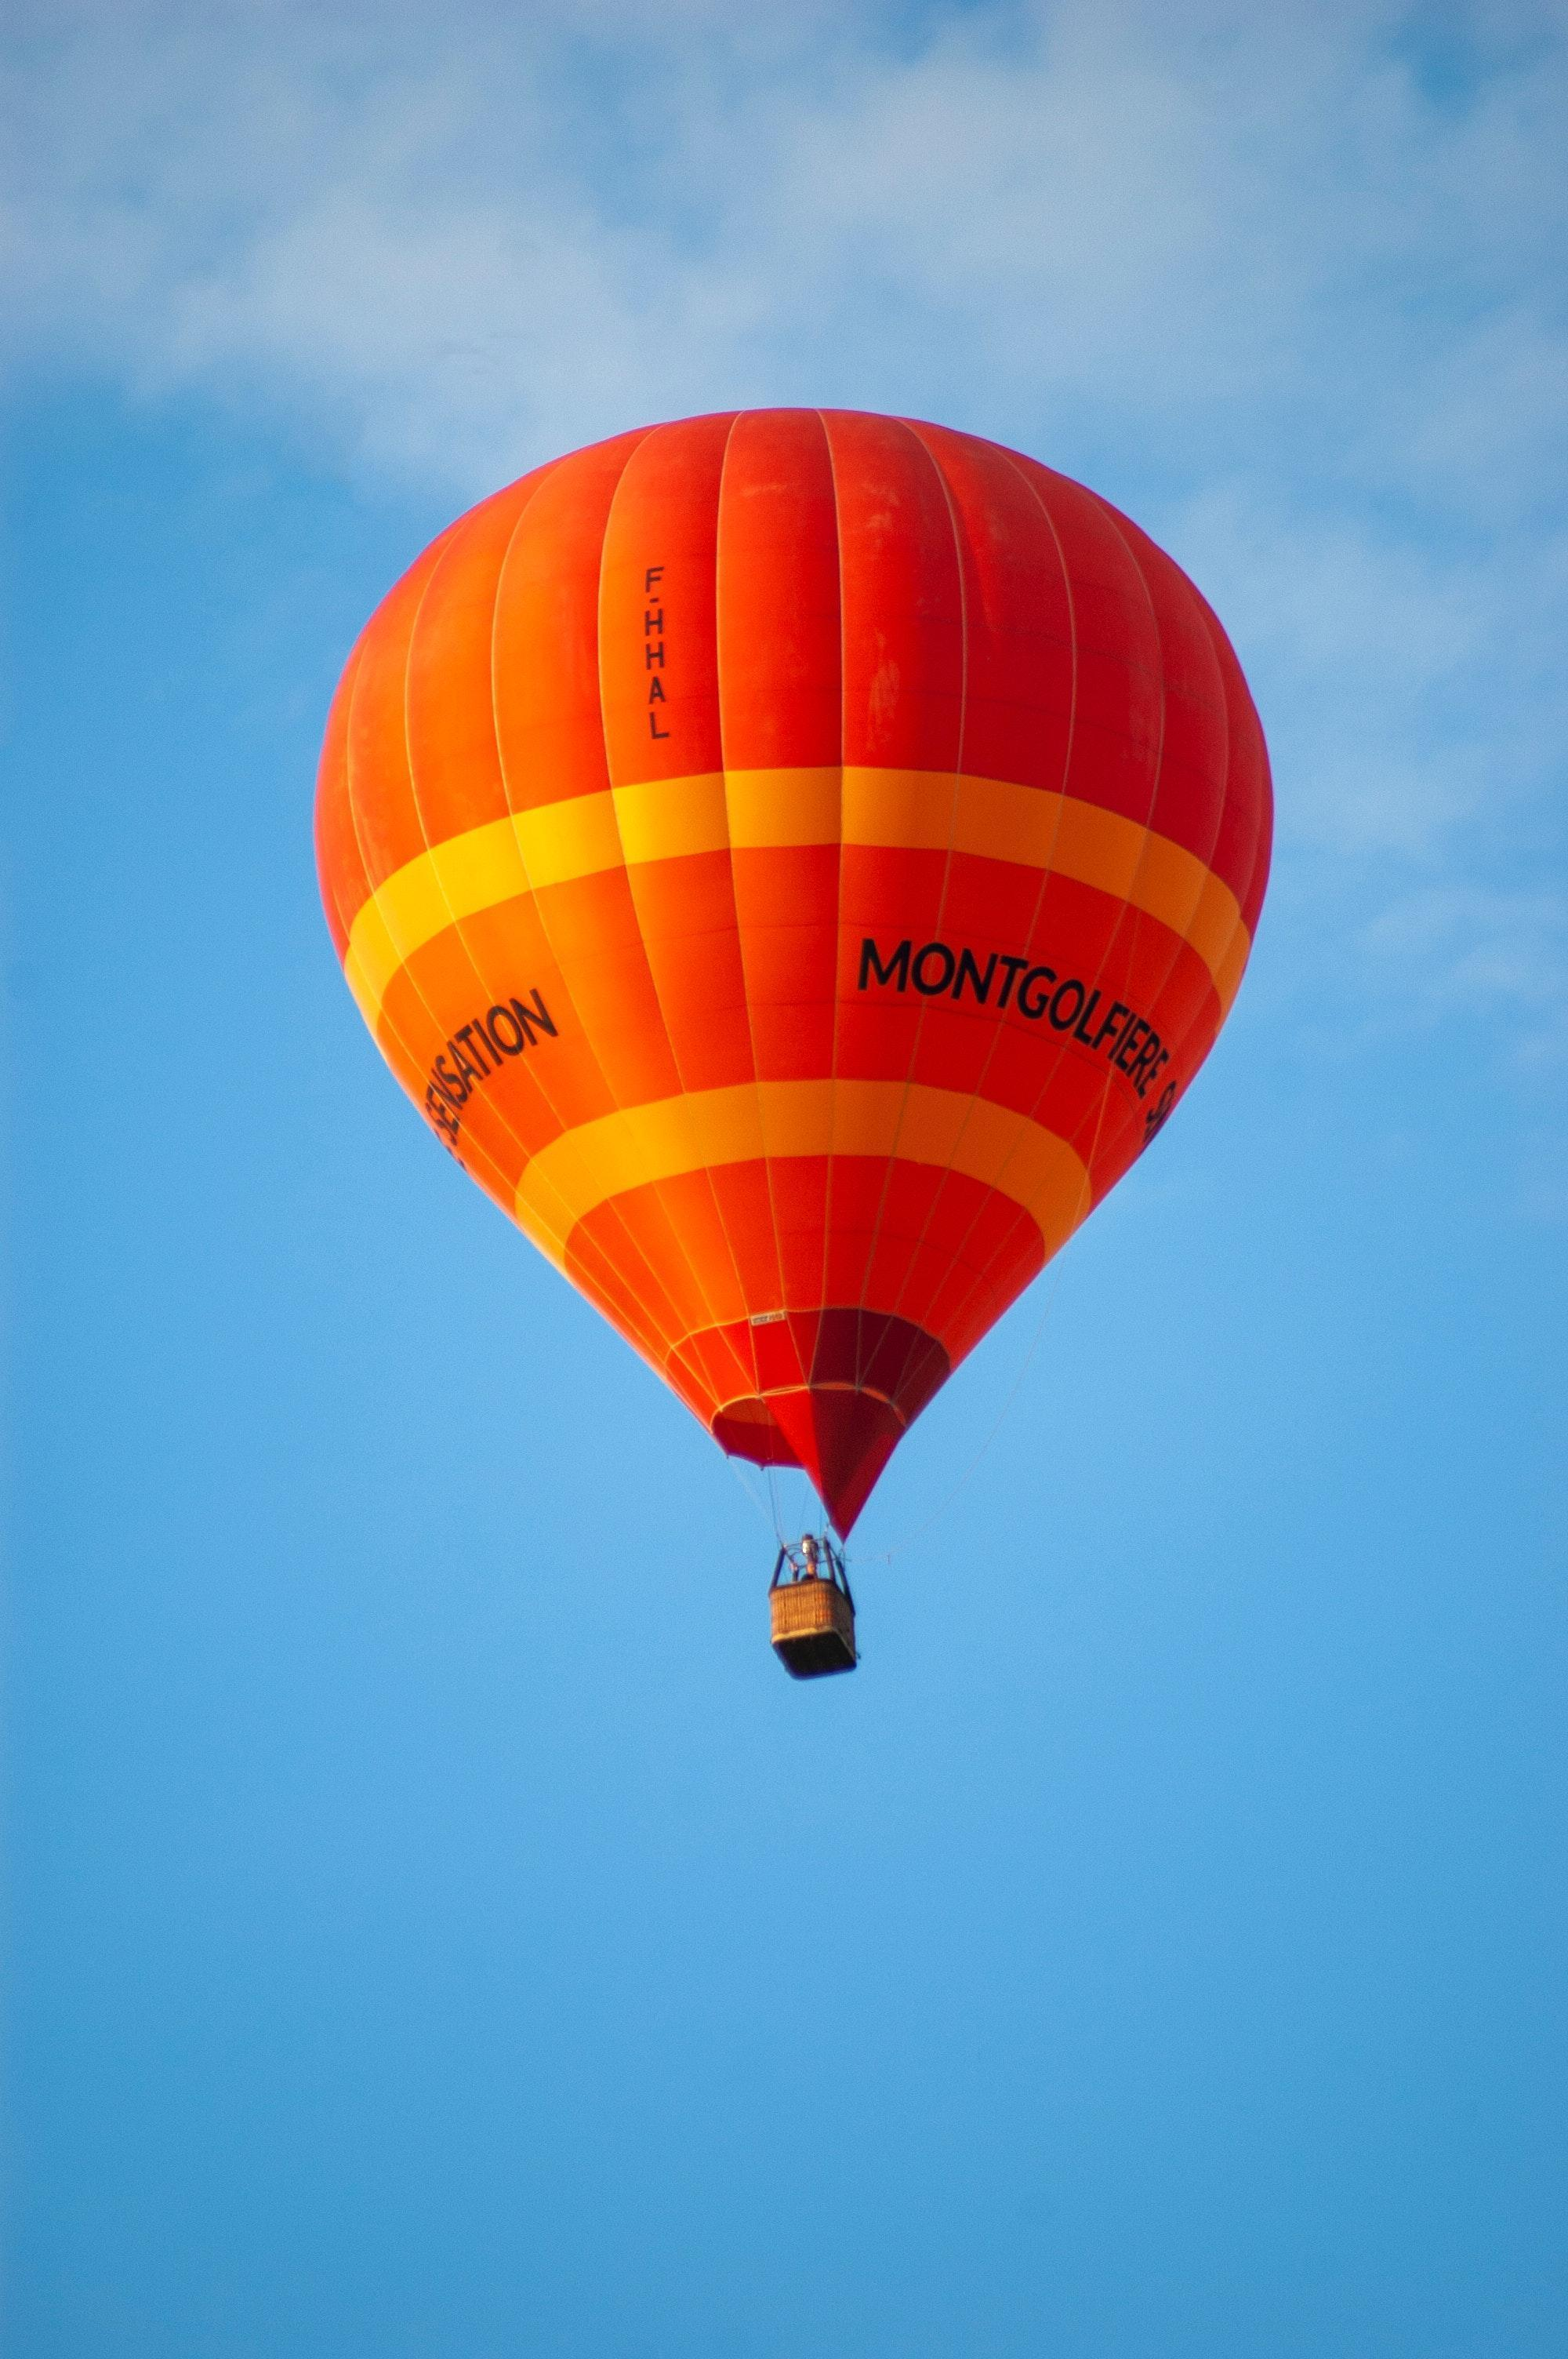hot air ballon: (310, 404, 1274, 1682)
